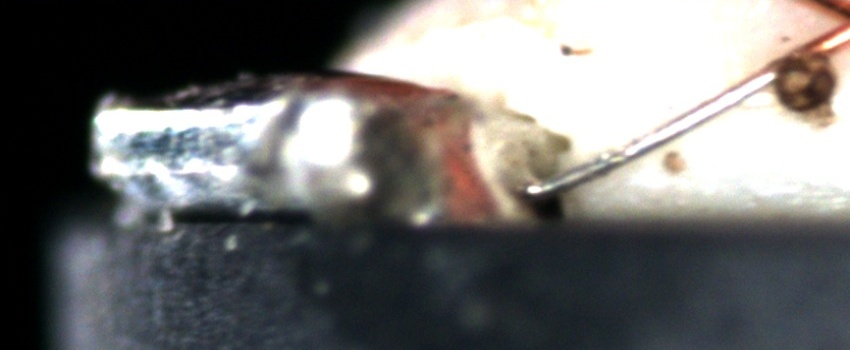TS: (526, 72, 779, 195)
